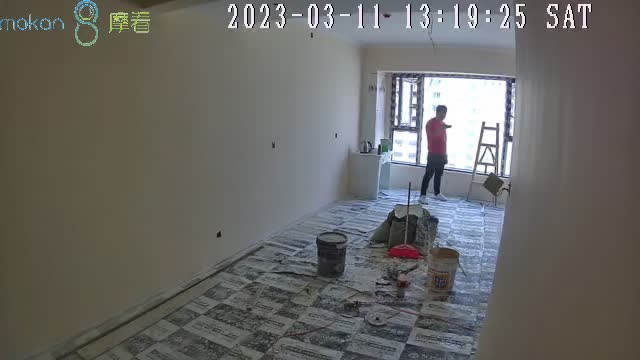people: (424, 106, 450, 203)
window: (390, 72, 515, 176)
